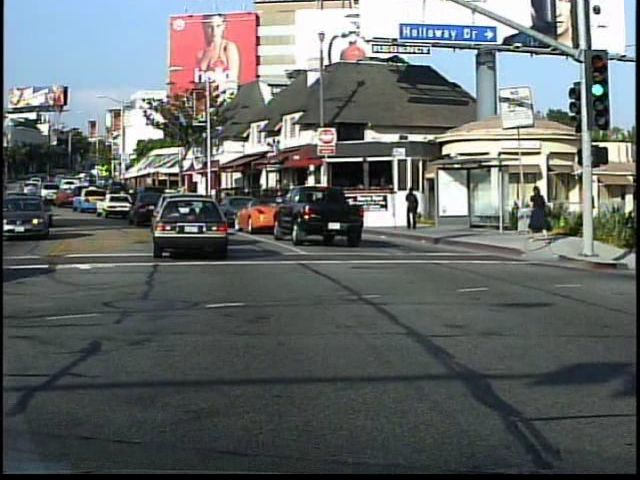person: (530, 181, 553, 247), (403, 186, 424, 235)
